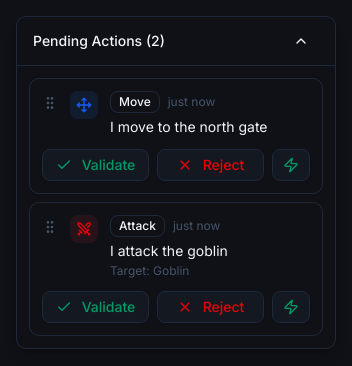
PendingActionQueue › collapse toggle hides action cards
Expected: the text "I move to the north gate" is shown, [110,118,268,135]
# Click collapse button
What coordinates should you click on to do the following:
click the button named "Collapse queue"
I would click on:
 (301, 41)
Its box is [283,25,319,57].
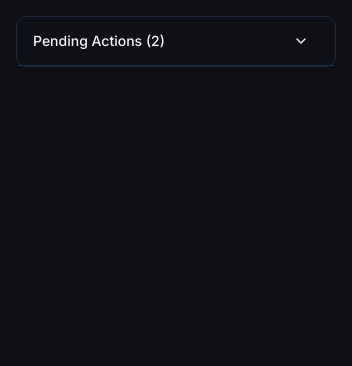
Expected: the text "I move to the north gate" is gone
